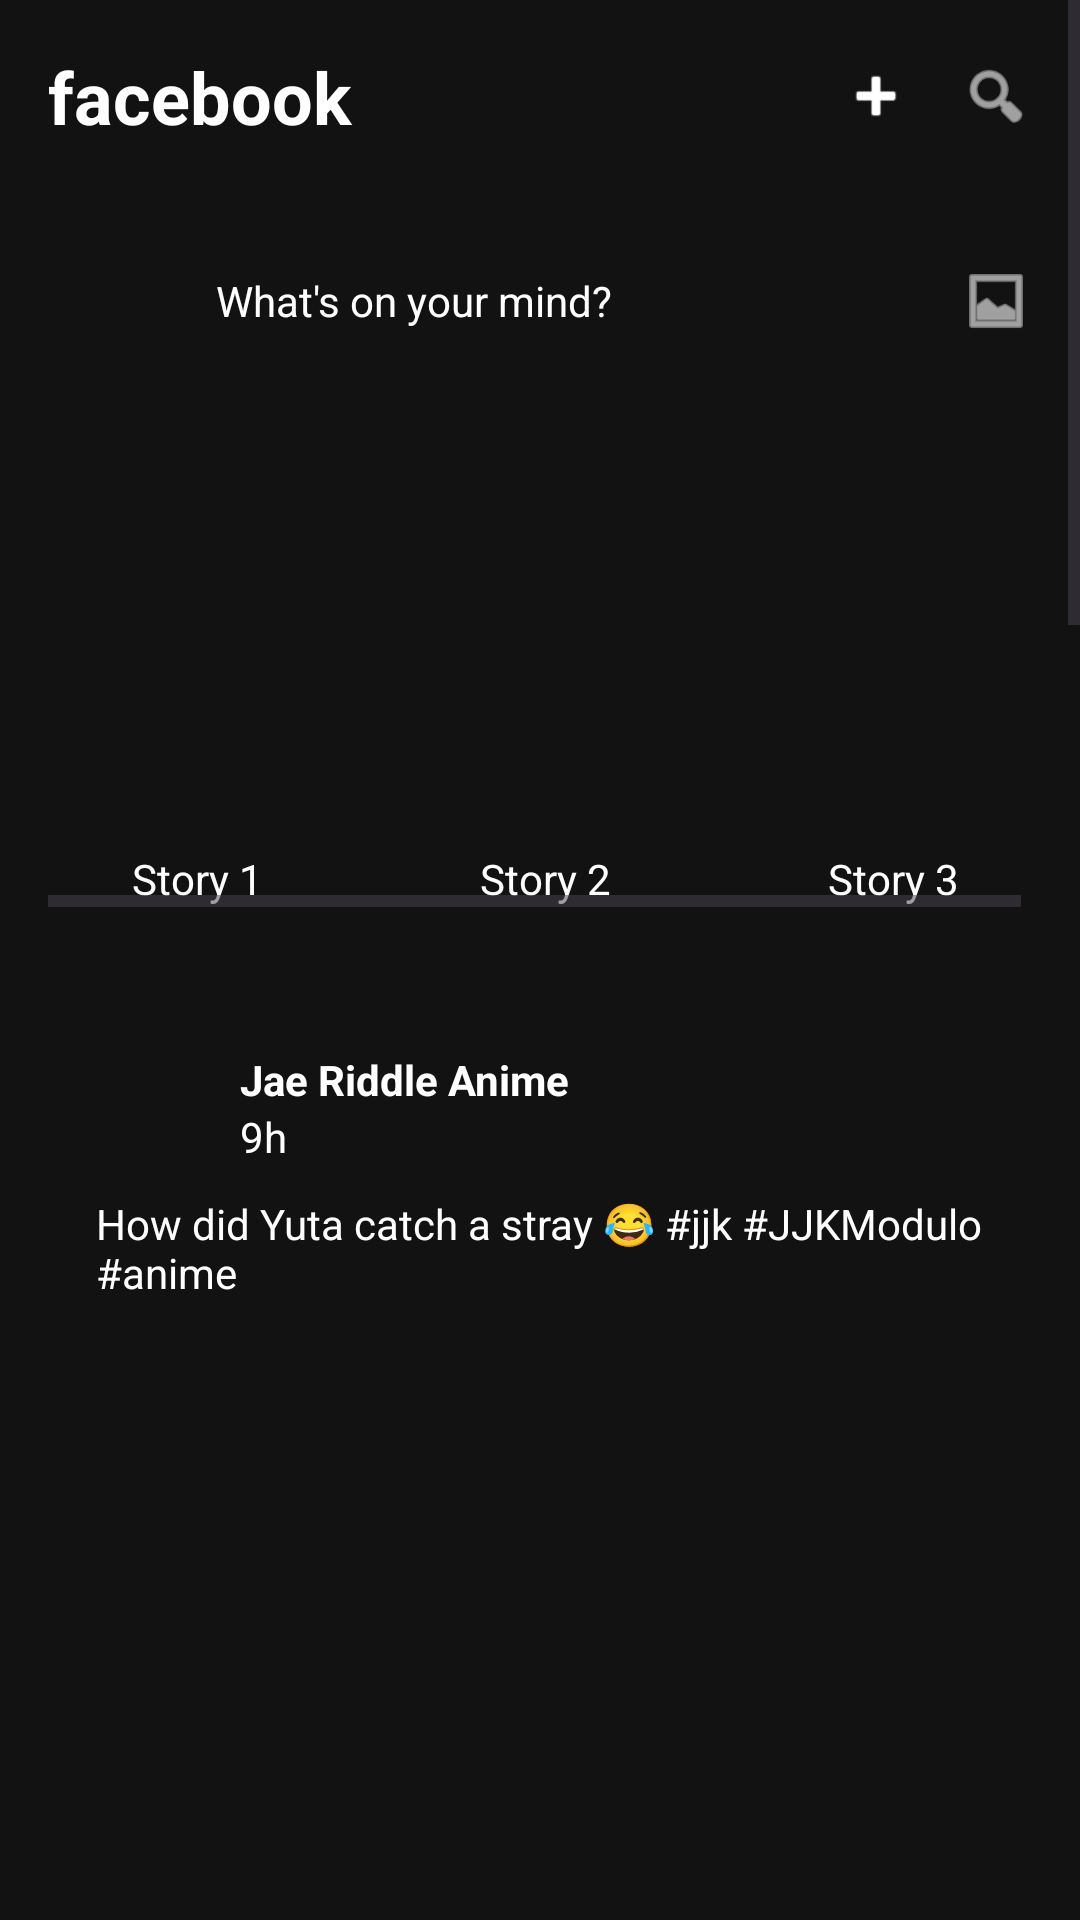

Icons on this 1080x1920 Android screen, each with the point to tap as [x,y]:
add: [876,96]
gallery: [996,301]
search: [996,96]
